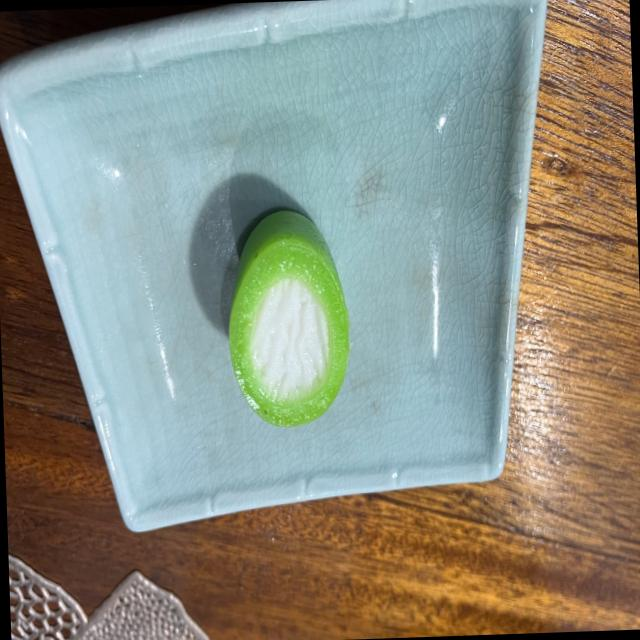nona-manis: (229, 210, 349, 426)
